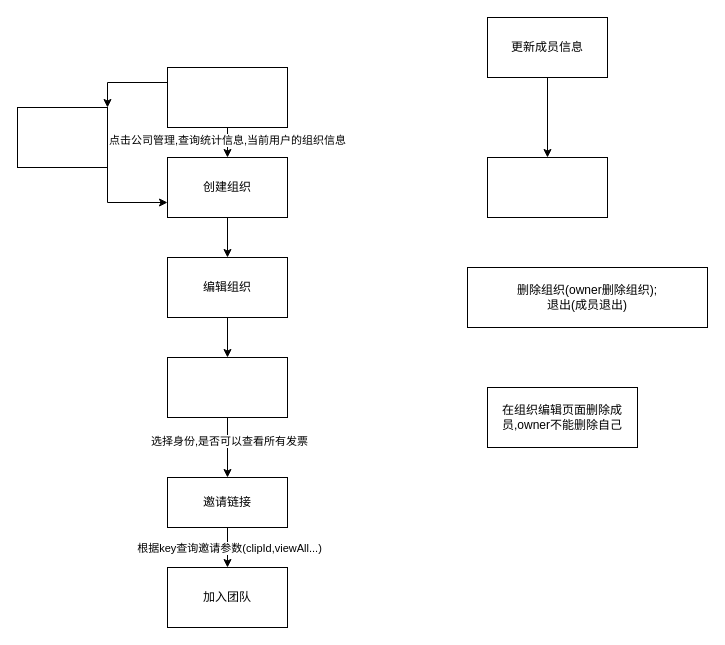
Image size: 725x645. Some labels were removed from this diagram. The centre of each missing label's shape, as x and y in pixels:
"owner修改自己的权限" belongs at point (547, 187).
"上传发票" belongs at point (62, 137).
"用户登录" belongs at point (227, 97).
"邀请成员" belongs at point (227, 387).
